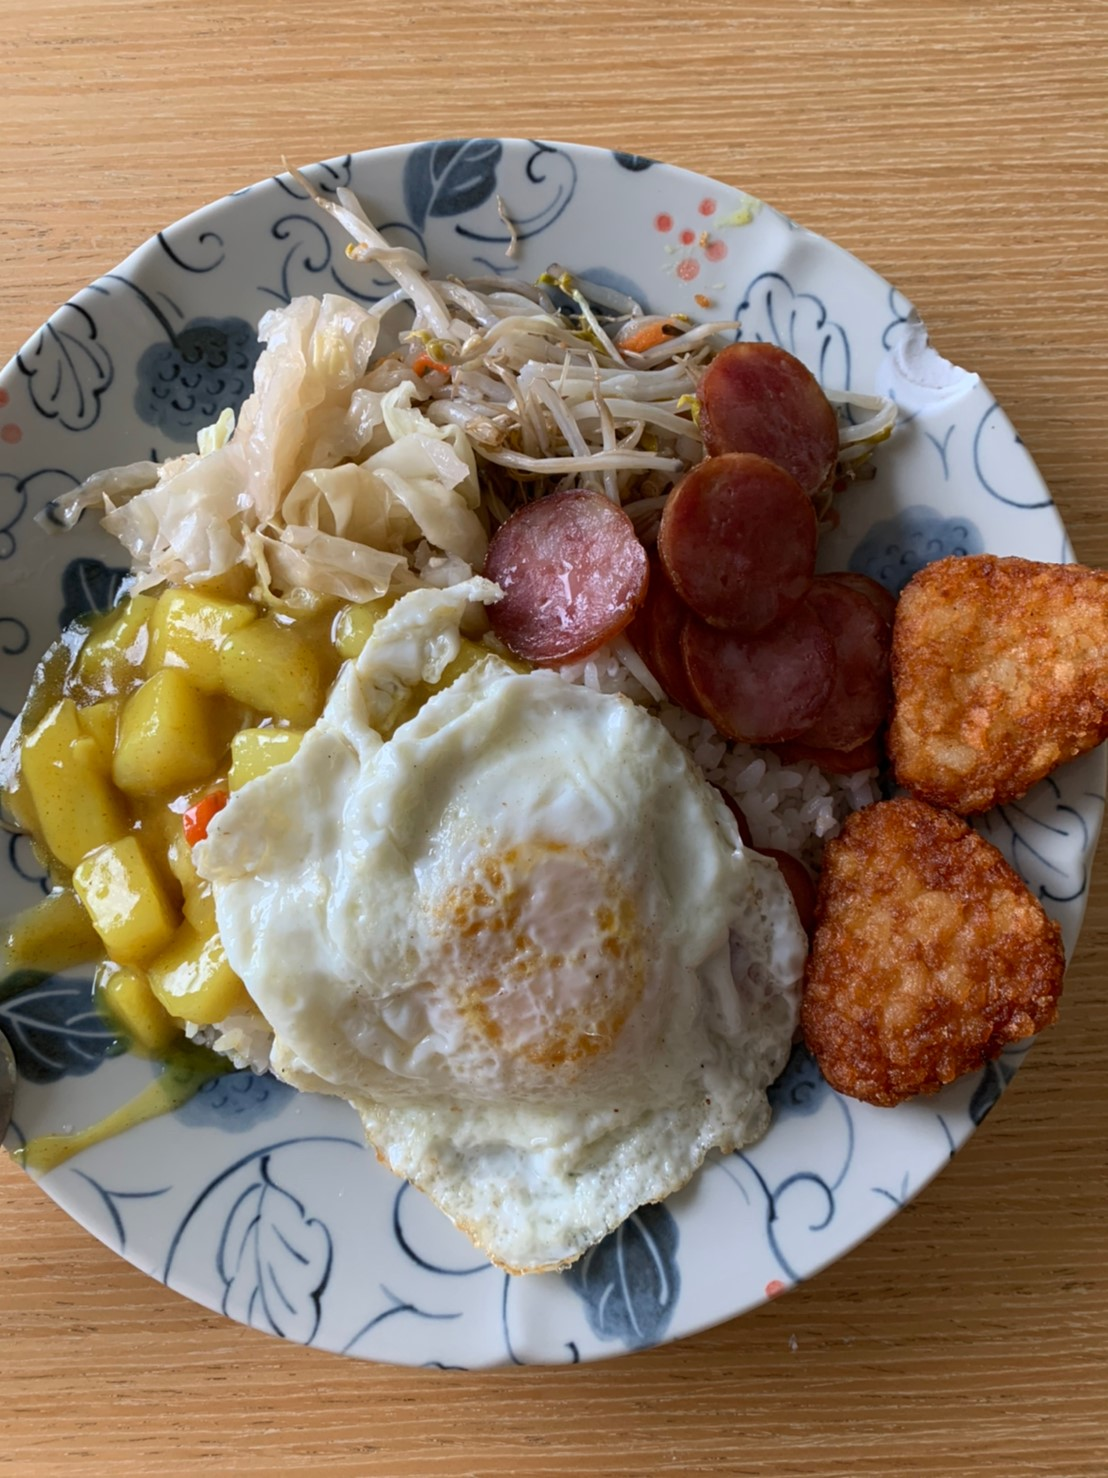chinese_cabbage: (97, 296, 452, 621)
chinese_sausage: (485, 340, 887, 749)
curry: (8, 589, 322, 1049)
fried_eggs: (218, 652, 810, 1289)
mung_bean_sprouts: (356, 271, 690, 475)
triangle_hash_brown: (795, 554, 1108, 1101)
